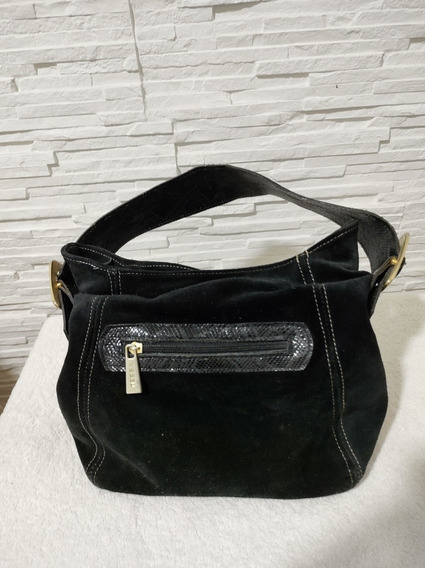cartera: (49, 163, 408, 501)
